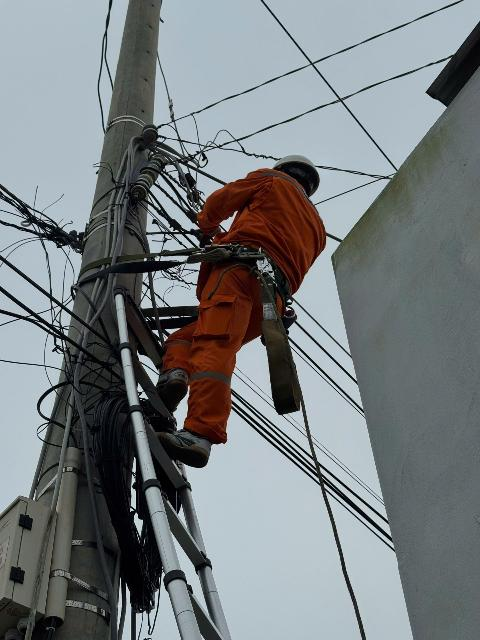harness: (176, 216, 297, 312)
helmet: (256, 143, 335, 193)
shoes: (151, 418, 227, 480), (135, 364, 194, 416)
